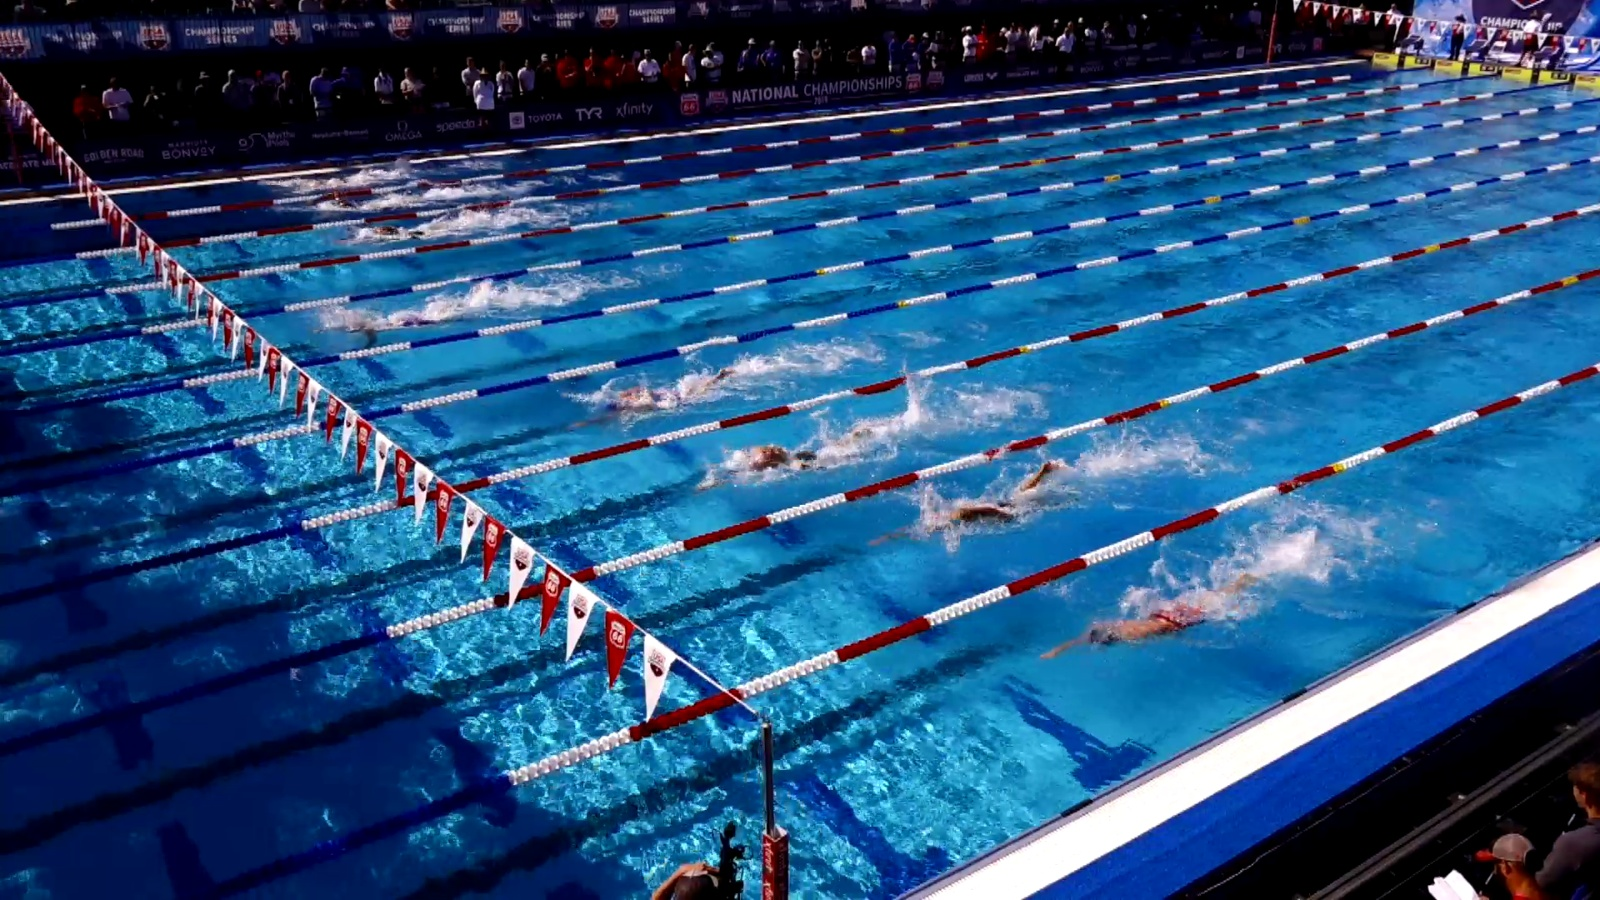swimmerw: (1043, 563, 1284, 677), (909, 462, 1069, 551), (711, 424, 891, 496), (595, 371, 745, 433), (345, 219, 502, 249), (330, 304, 477, 336), (274, 173, 381, 197), (296, 202, 413, 218)
